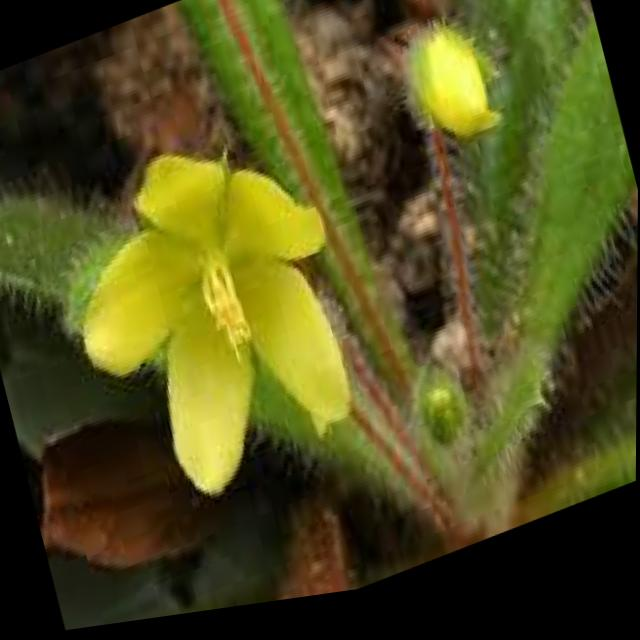Flower: (34, 105, 389, 540), (387, 3, 524, 208)
